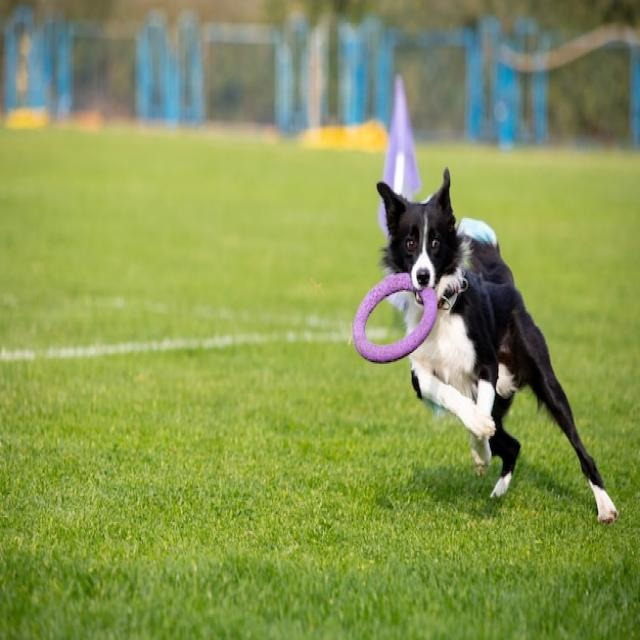Dog: (375, 166, 617, 522)
